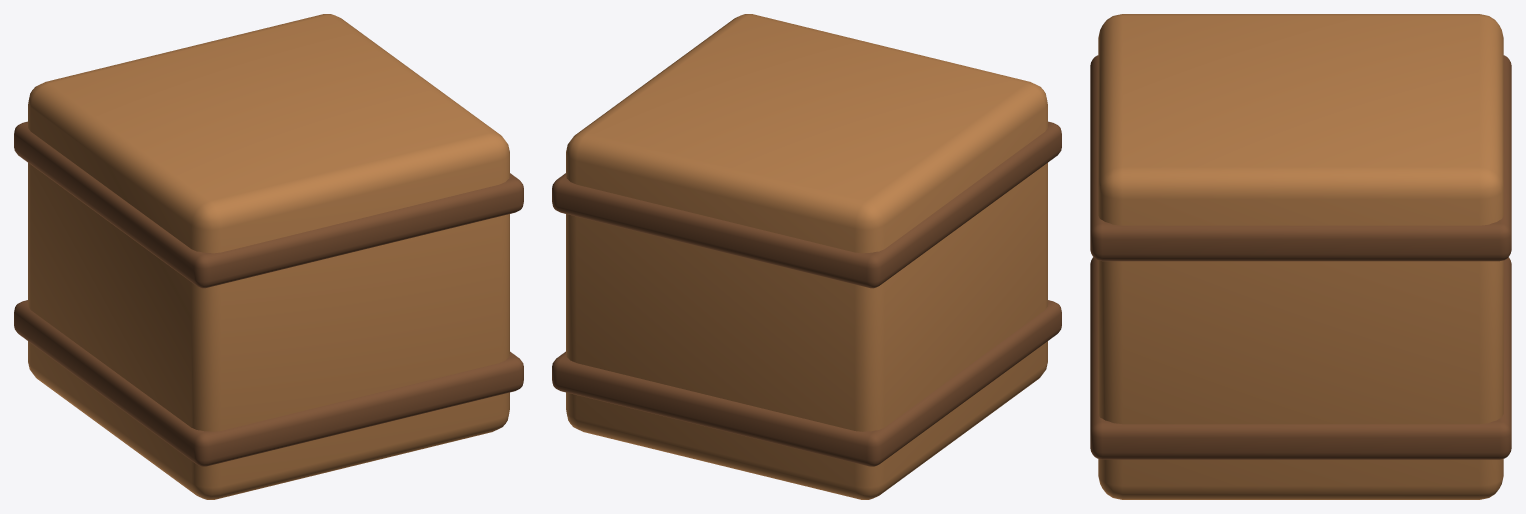
Rendered from caixote.glb.
The picture shows the model from 3 angles, left to right: view 1: azimuth 30°, elevation 25°; view 2: azimuth 150°, elevation 25°; view 3: azimuth 270°, elevation 25°; orthographic projection. The views are drawn at different scales.
Parts seen in each view (by area): view 1: Cube, Cube.001, Cube.002; view 2: Cube, Cube.001, Cube.002; view 3: Cube, Cube.002, Cube.001.
Part boxes in pixels (x1,y1,x2,y2): Cube: (28,14,509,499); Cube.001: (14,300,523,466); Cube.002: (14,121,523,288); Cube: (566,14,1047,499); Cube.001: (552,300,1061,466); Cube.002: (552,121,1061,288); Cube: (1098,14,1503,499); Cube.002: (1090,55,1511,261); Cube.001: (1090,257,1511,459).
Size of the model in its own units: 1.04 by 0.9 by 1.04.
